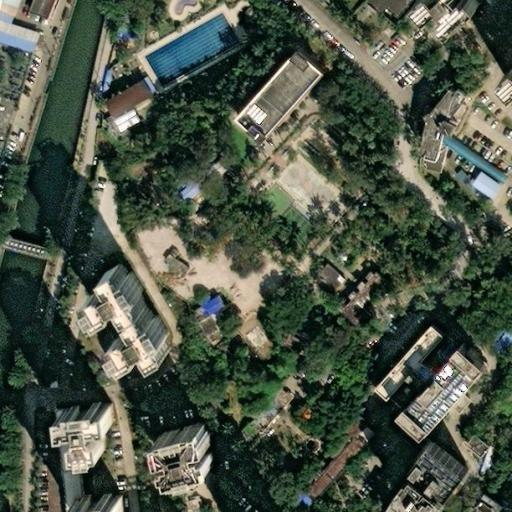building: (83, 265, 172, 366), (402, 347, 489, 439), (292, 409, 377, 502), (229, 48, 315, 139), (364, 318, 433, 394), (412, 83, 455, 157), (66, 407, 118, 466), (177, 425, 234, 478), (235, 387, 287, 443), (340, 271, 391, 327), (404, 441, 458, 493), (46, 411, 70, 512), (95, 78, 147, 120), (408, 0, 474, 28), (393, 474, 441, 512), (170, 177, 202, 208), (186, 305, 213, 338), (0, 22, 33, 49), (352, 9, 381, 39), (464, 174, 494, 202), (0, 92, 16, 142), (307, 263, 336, 290), (74, 498, 125, 512), (473, 492, 507, 512), (156, 248, 181, 275), (193, 294, 218, 319), (363, 0, 397, 18), (457, 434, 482, 458), (30, 0, 58, 21), (105, 110, 130, 132), (91, 69, 105, 96), (445, 171, 461, 187), (0, 11, 5, 19)
